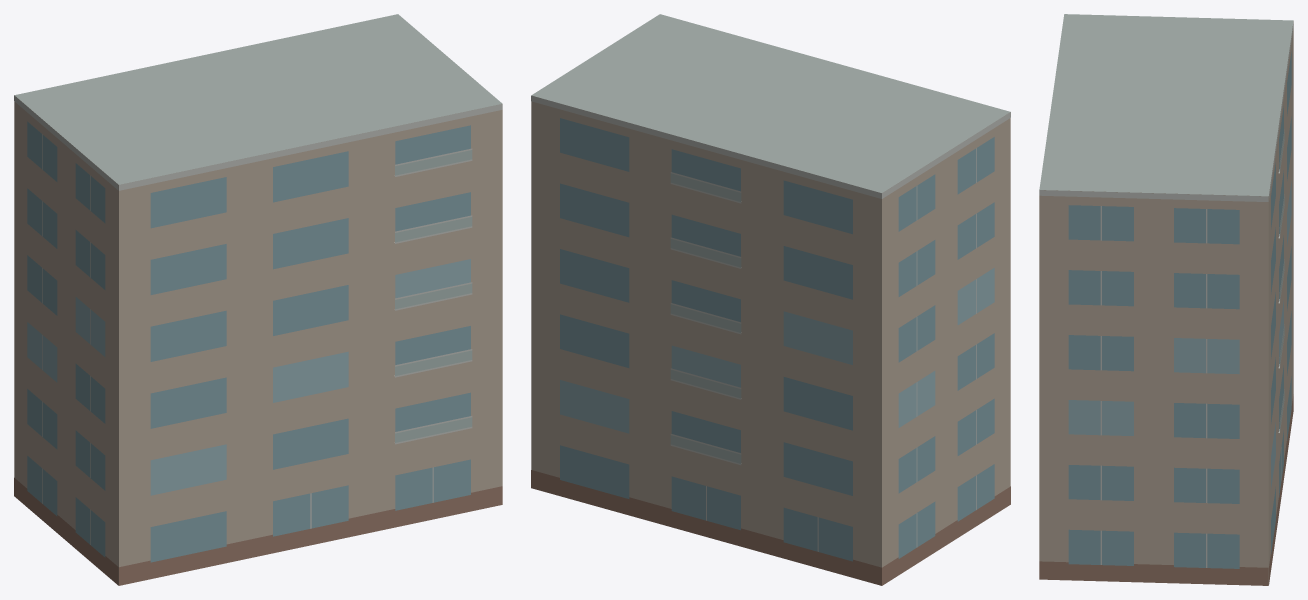
File: survey-upis-33032918.glb
The picture shows the model from 3 angles, left to right: view 1: azimuth 30°, elevation 25°; view 2: azimuth 150°, elevation 25°; view 3: azimuth 270°, elevation 25°; orthographic projection. The views are drawn at different scales.
Visible parts, largest first — view 1: survey-upis-33032918.tmp; view 2: survey-upis-33032918.tmp; view 3: survey-upis-33032918.tmp.
Boxes of the visible parts, x1,y1,x2,y2 form: survey-upis-33032918.tmp: [14, 14, 502, 585]; survey-upis-33032918.tmp: [531, 14, 1010, 585]; survey-upis-33032918.tmp: [1039, 14, 1293, 585].
Size of the model in its own units: 16.37 by 16.3 by 9.65.
